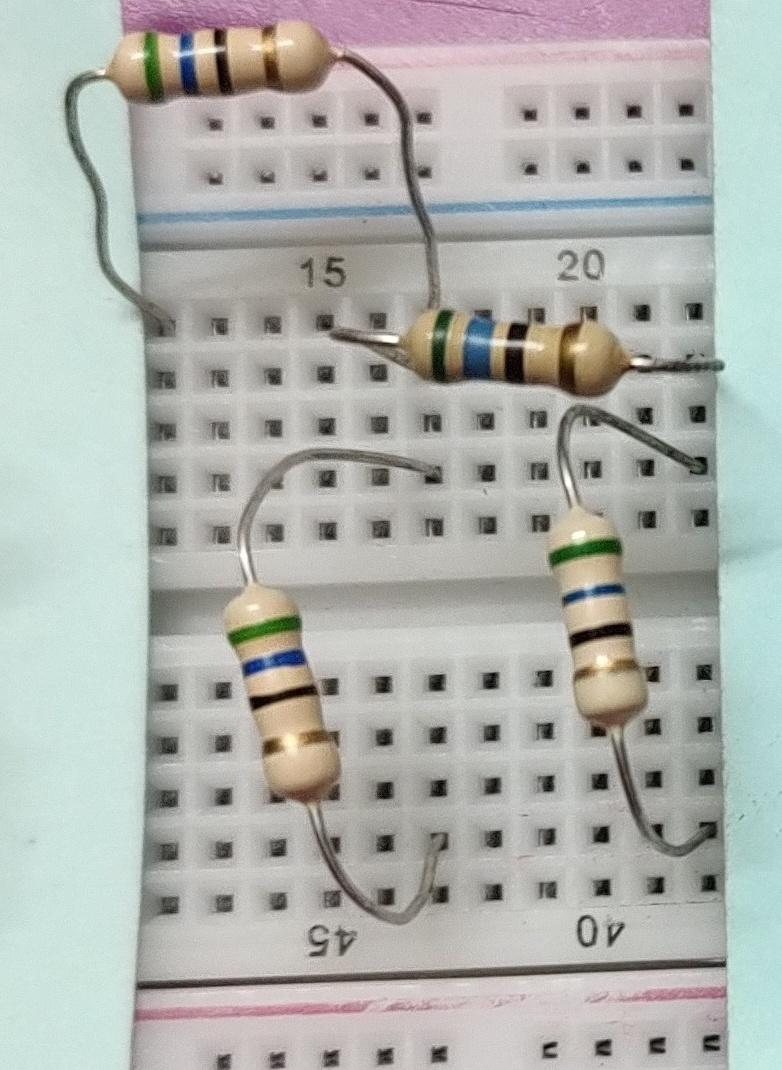resistor: (531, 503, 681, 754), (211, 577, 354, 819), (401, 291, 633, 422), (103, 21, 358, 115)
